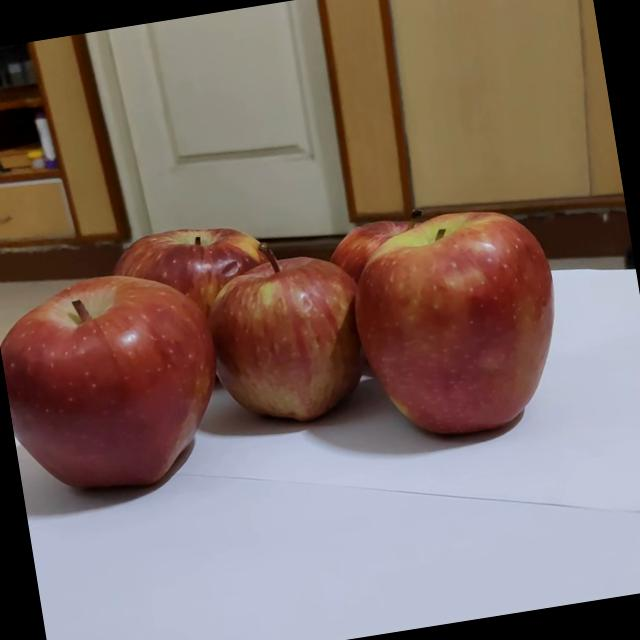apple: (0, 263, 267, 544), (82, 208, 304, 422), (382, 205, 596, 425), (222, 246, 412, 436), (316, 200, 478, 357)
